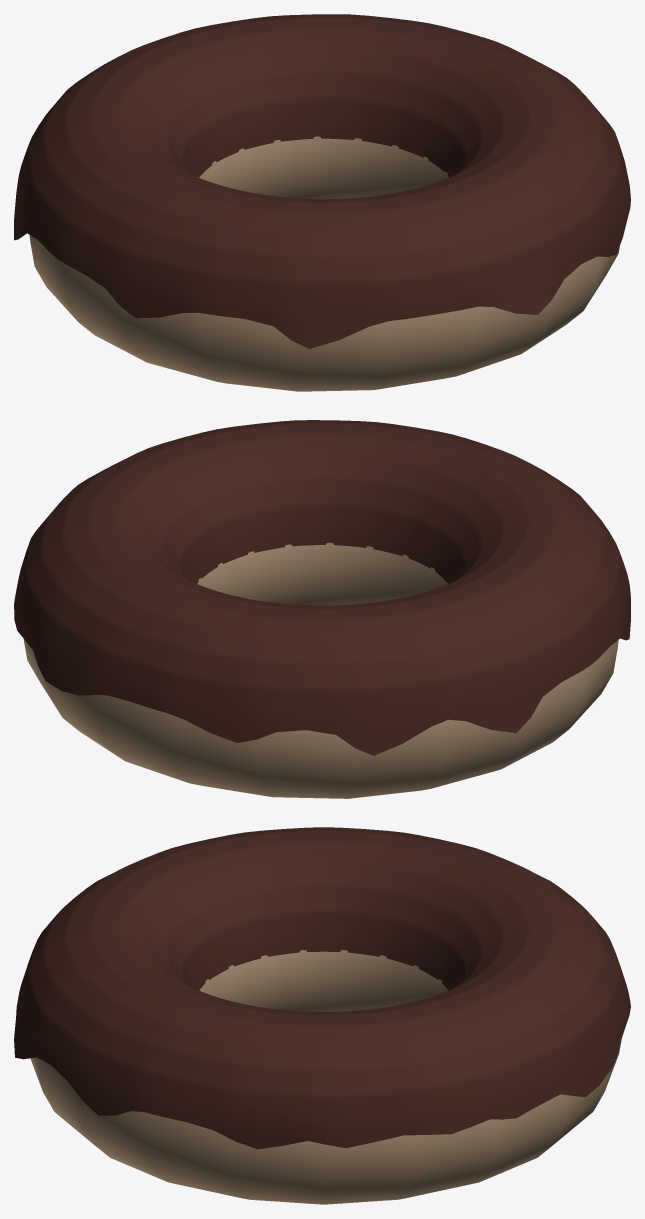
Rendered from Donut.fbx.
The picture shows the model from 3 angles, top to bottom: view 1: azimuth 30°, elevation 25°; view 2: azimuth 150°, elevation 25°; view 3: azimuth 270°, elevation 25°; orthographic projection.
Parts seen in each view (by area): view 1: polySurface3, polySurface2; view 2: polySurface3, polySurface2; view 3: polySurface3, polySurface2.
Boxes of the visible parts, box(x1,y1,x2,y2) form: polySurface3: box(14, 14, 630, 348); polySurface2: box(29, 136, 619, 391); polySurface3: box(14, 420, 630, 755); polySurface2: box(23, 542, 618, 798); polySurface3: box(14, 827, 630, 1149); polySurface2: box(30, 950, 621, 1204).
Bounding box in the file's own units: 2.87 × 0.9189 × 2.88.
